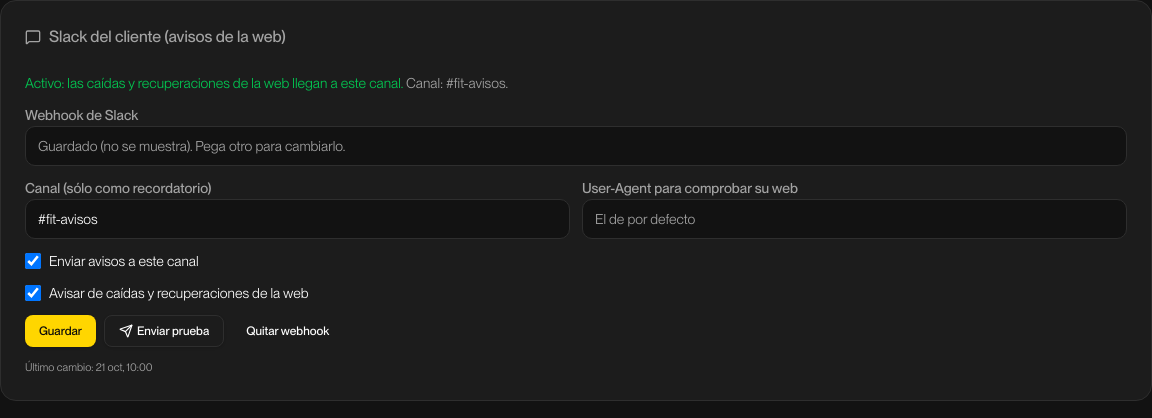
Scenario: keeps the stored webhook when only other fields change
The image size is (1152, 418).
Expected: the text "Canal: #fit-avisos." is shown, x1=403 y1=75 x2=508 y2=91
Click the checkbox labelled "Enviar avisos a este canal". click: click(33, 261)
box: x1=25 y1=253 x2=41 y2=269
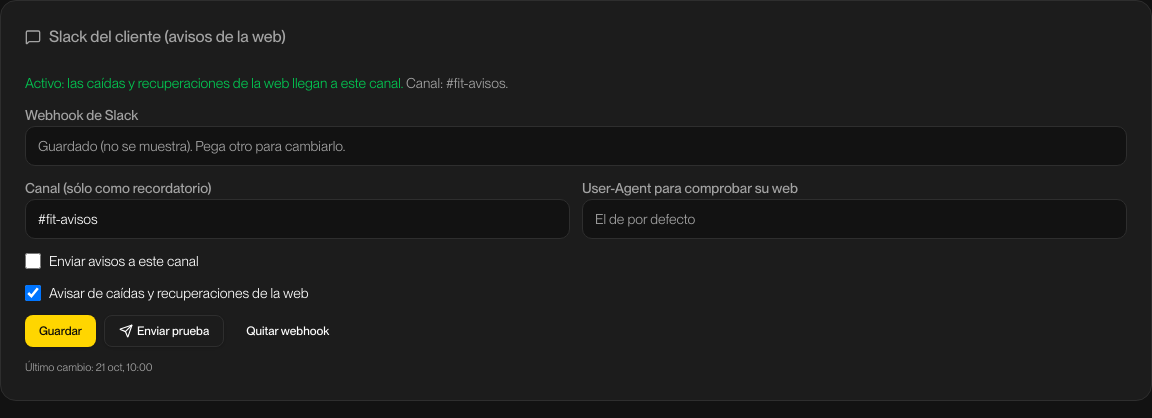
Click the button "Guardar". click: click(60, 331)
box: x1=25 y1=315 x2=96 y2=347
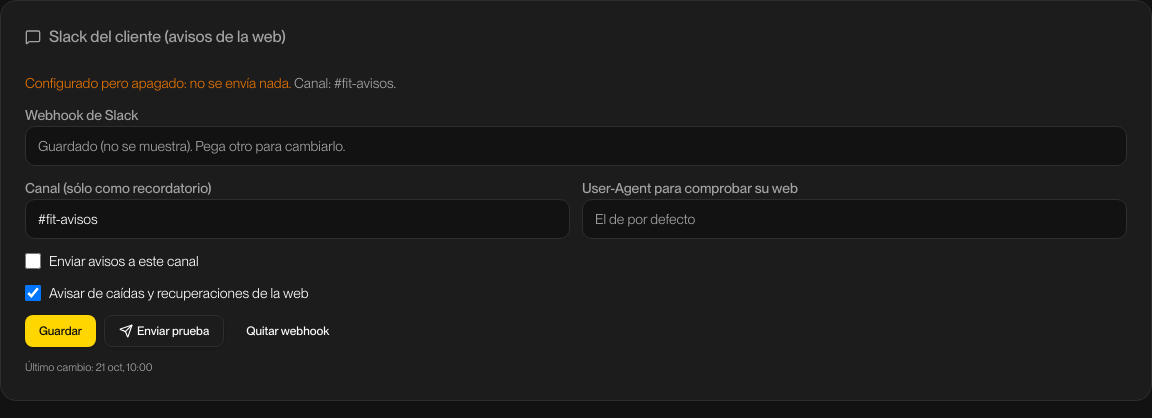
Now the message shows "Configurado pero apagado", box x1=25 y1=75 x2=291 y2=91
